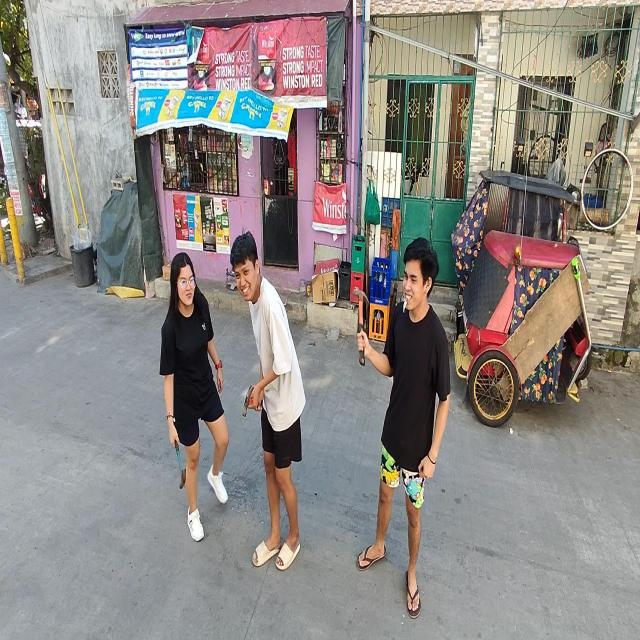hammer: (353, 290, 369, 366), (242, 385, 263, 417), (175, 440, 186, 490)
